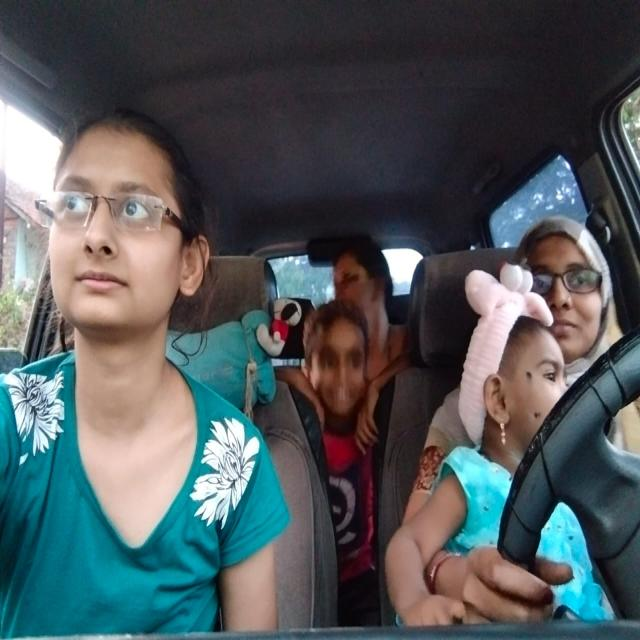child: (468, 327, 578, 457)
person: (42, 102, 212, 340), (516, 218, 614, 358), (299, 304, 380, 424), (324, 245, 392, 307)
